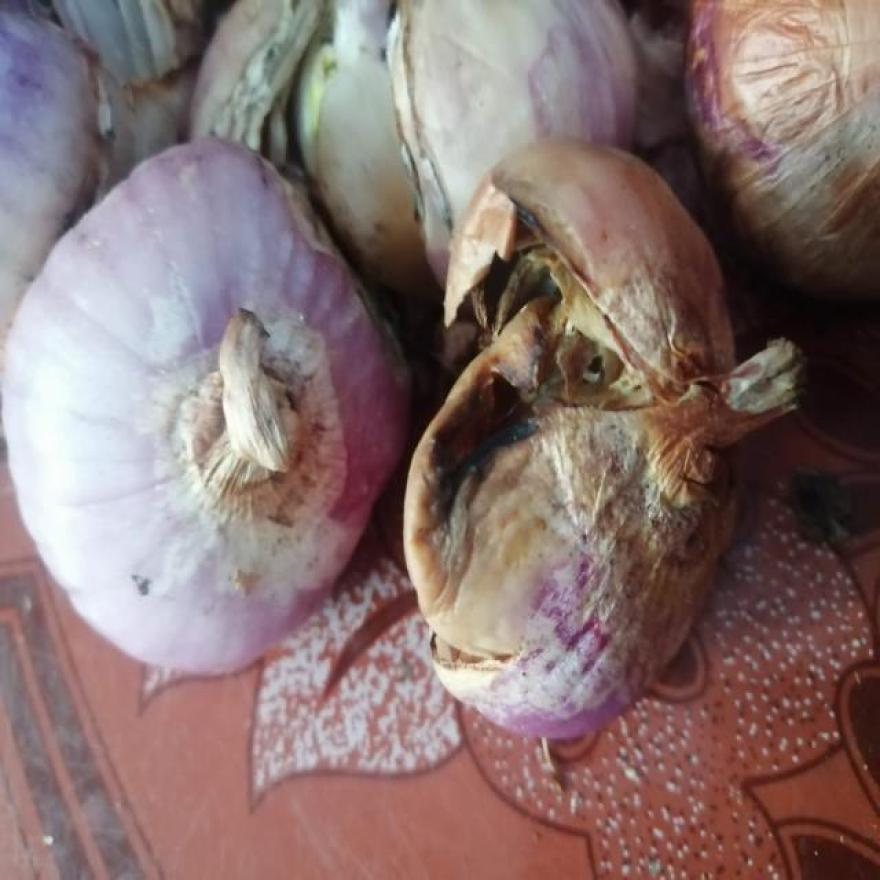Rotten: (441, 262, 659, 487), (286, 190, 430, 358), (280, 47, 404, 210)
